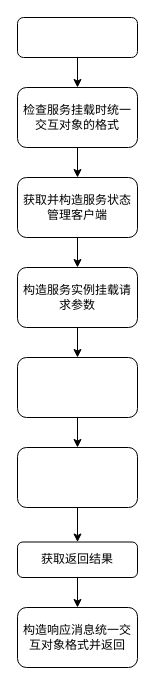
This 155x685 diagram has some shape labels left out. The shapes that lost their labels are listed below. From the top down, each one's centre as x and y in pixels, then its label:
At (x=77, y=37): "挂载服务".
At (x=77, y=387): "发起服务实例挂载的调用".
At (x=77, y=477): "服务实例进行服务挂载相关操作".
